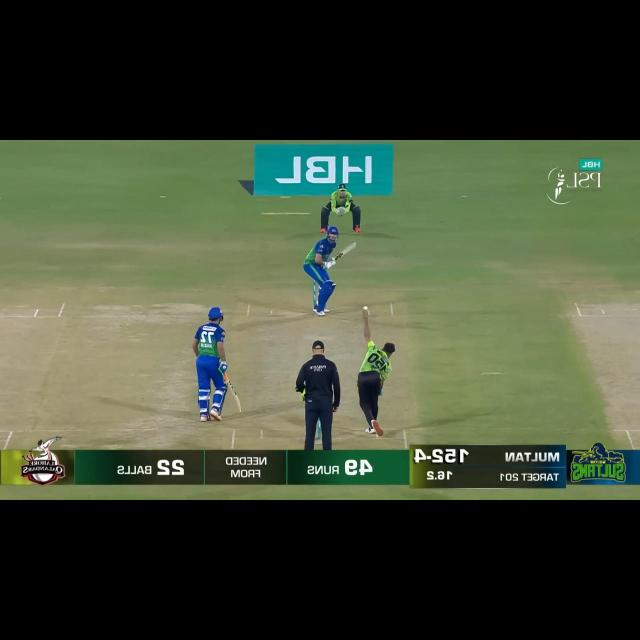bat: (334, 242, 356, 262), (228, 380, 242, 411)
toe: (236, 404, 242, 413), (352, 243, 356, 249)
